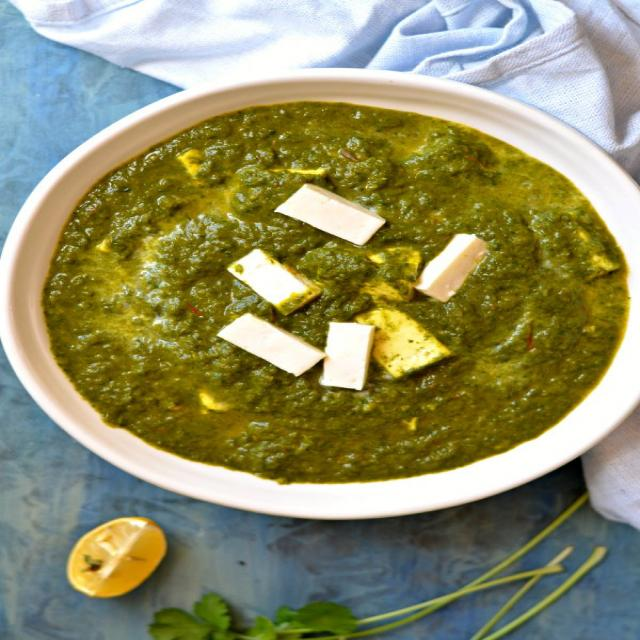Palak Paneer: (39, 98, 632, 486)
